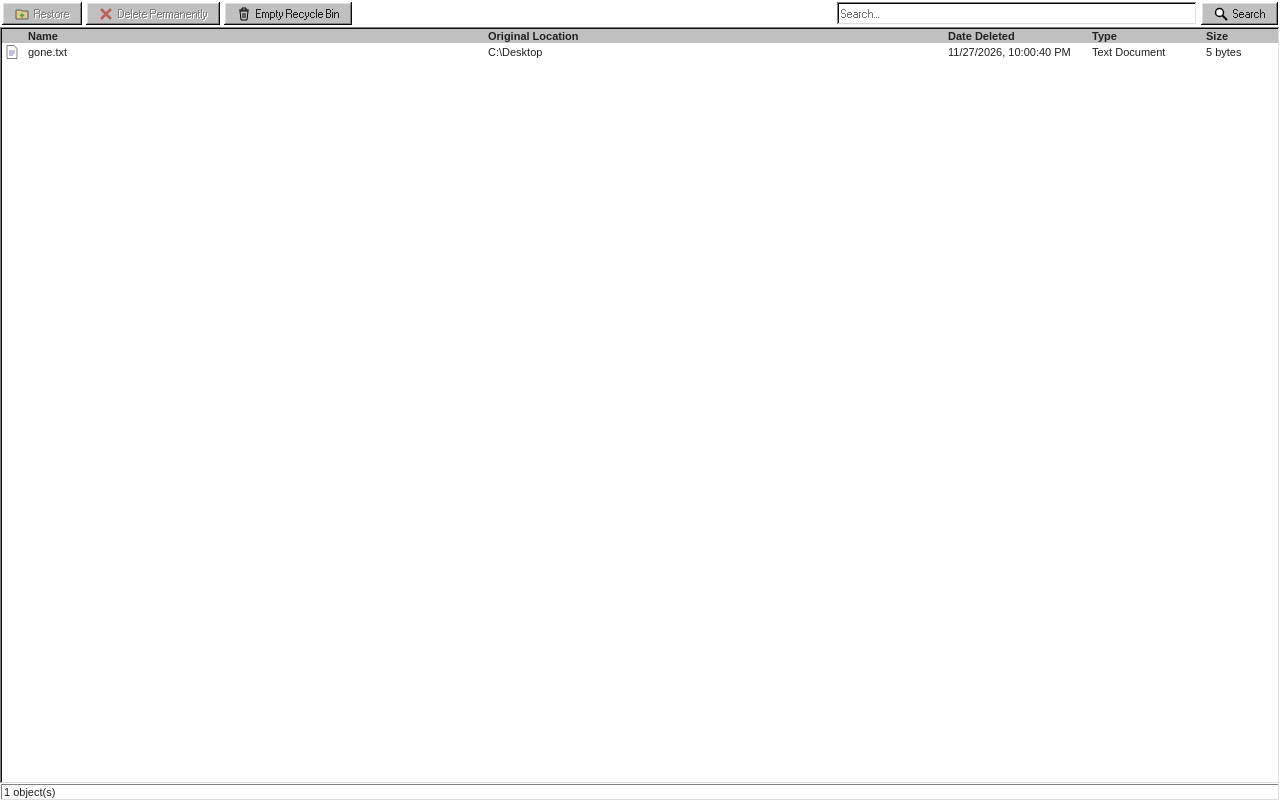
Test: Recycle Bin window › lists deleted items and restores one with a message saying where it went
Expected: the text "C:\\Desktop" is shown, left=488, top=46, right=542, bottom=58
Press the mouse on the text with class "bin-cell" showing "gone.txt": (48, 52) left=28, top=46, right=67, bottom=58
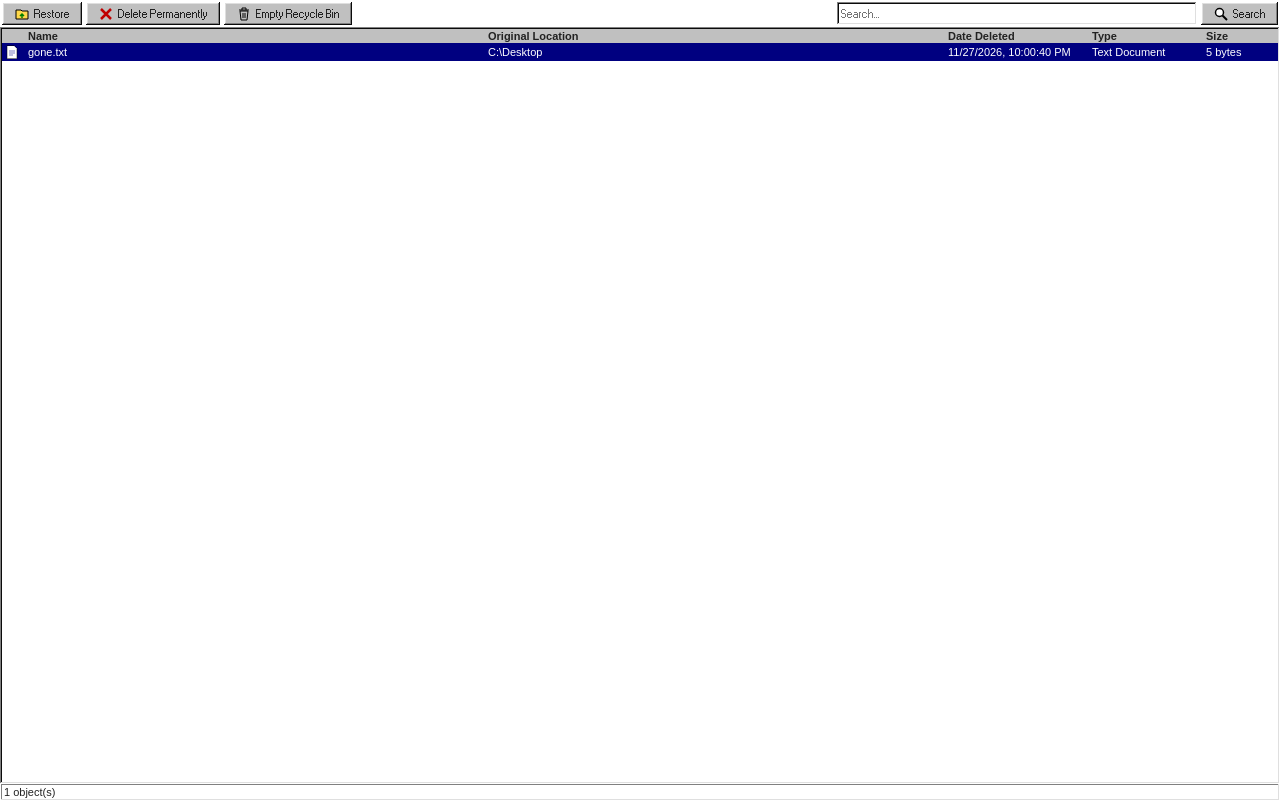
Click the button "Restore": (42, 14) left=2, top=2, right=82, bottom=25
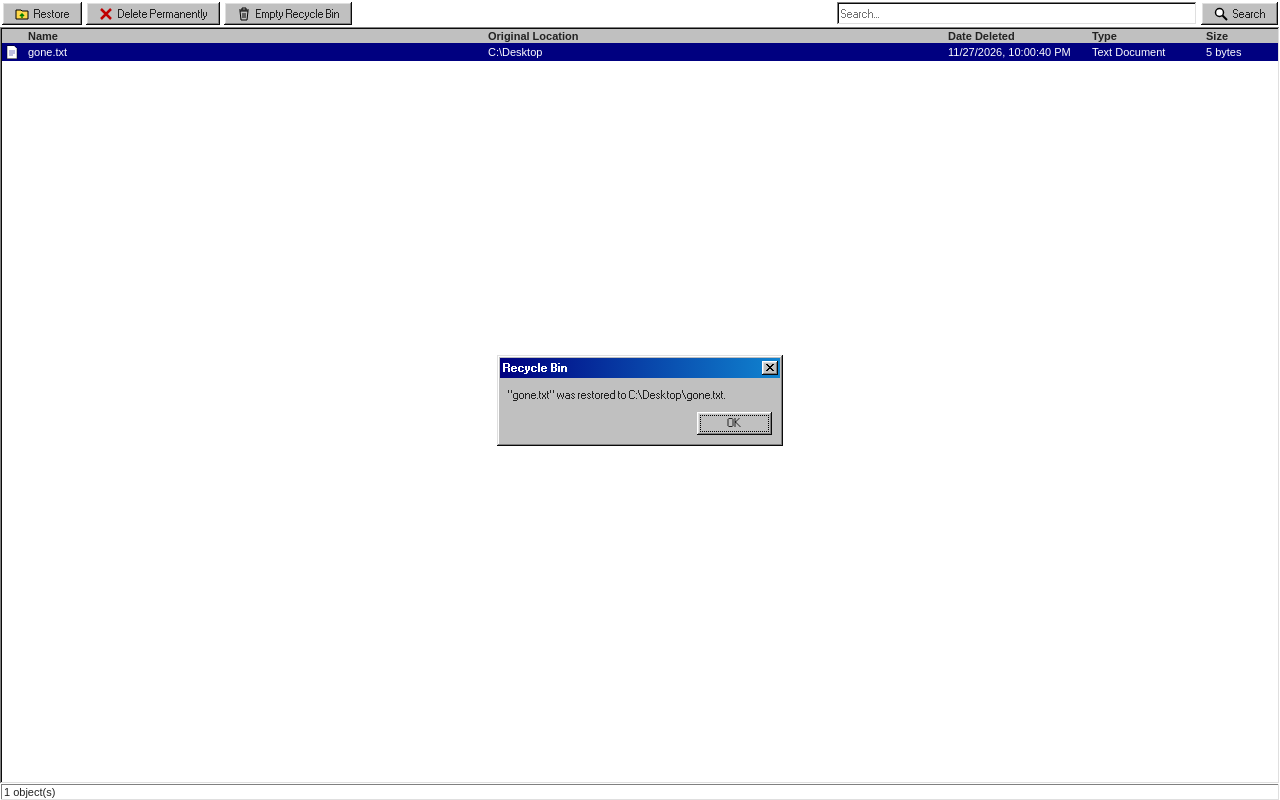
Expected: the message shows "restored to C:\\Desktop\\gone.txt", left=508, top=388, right=726, bottom=400
Click the button "OK": (734, 423) left=697, top=412, right=772, bottom=434
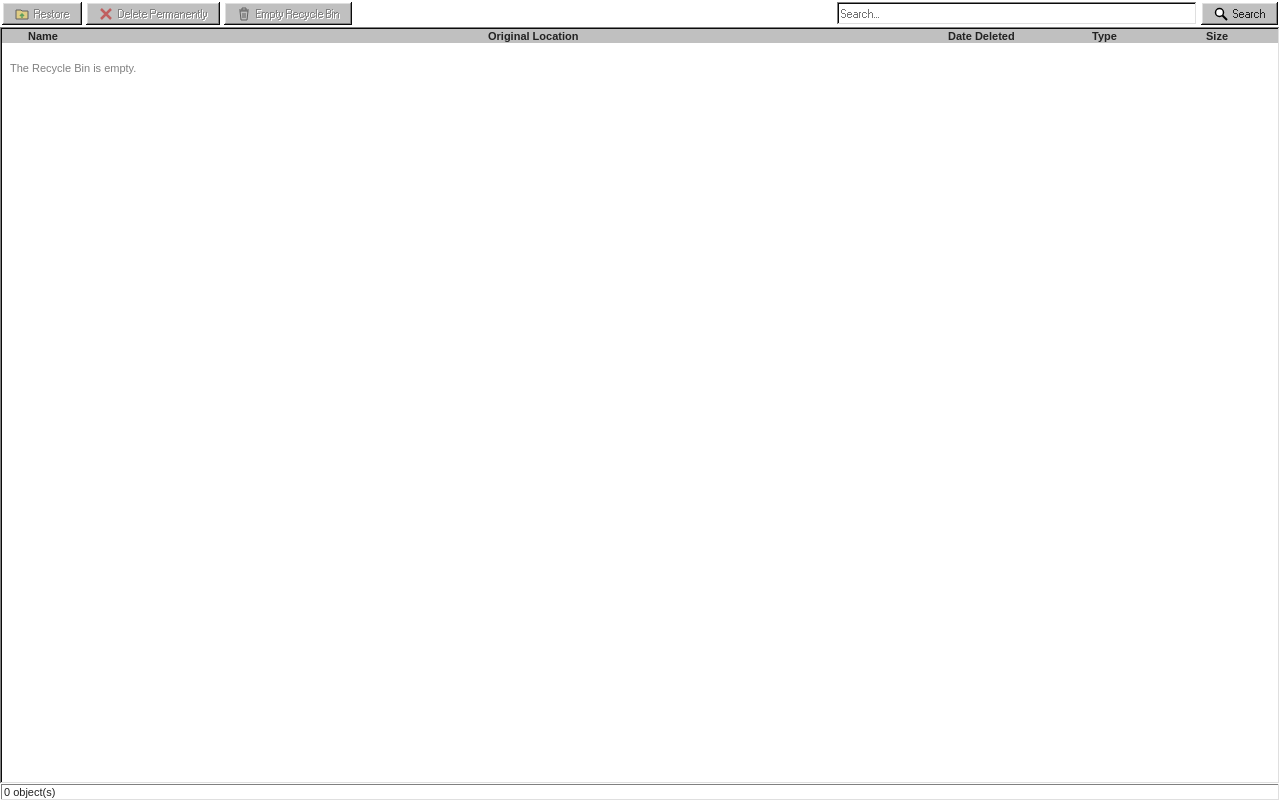
Expected: the text "The Recycle Bin is empty." is shown, left=10, top=62, right=136, bottom=74
